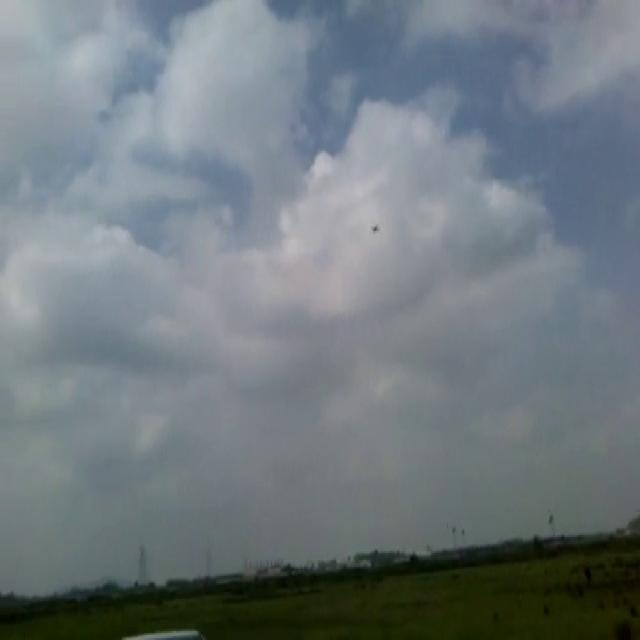drone: (369, 215, 381, 235)
